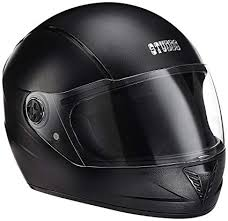helmet: (1, 3, 226, 219)
